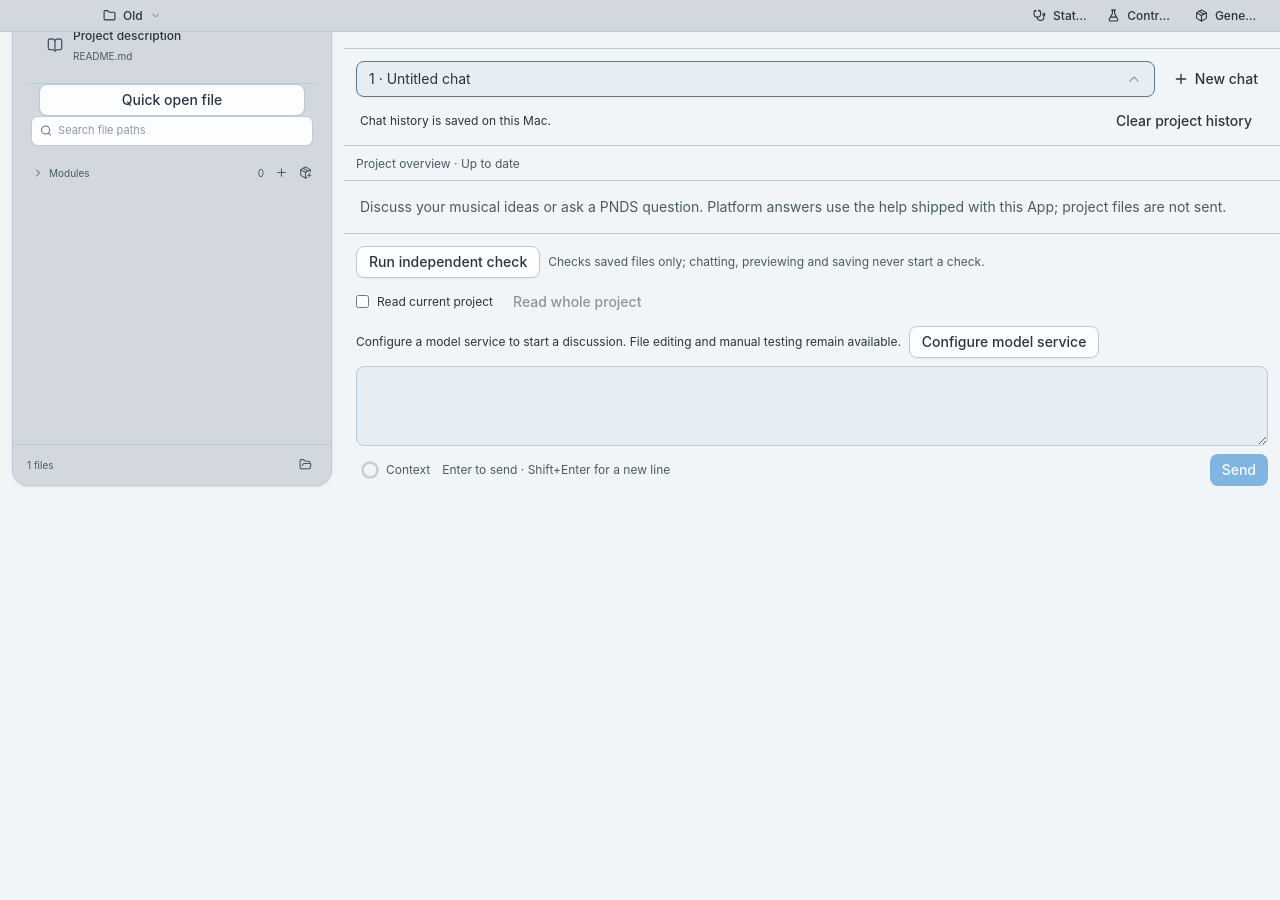
Test: reports creation failure before stopping the live project and keeps the form available for retry
Click the button with aria-label "Project actions": [132, 16] box [96,4,168,28]
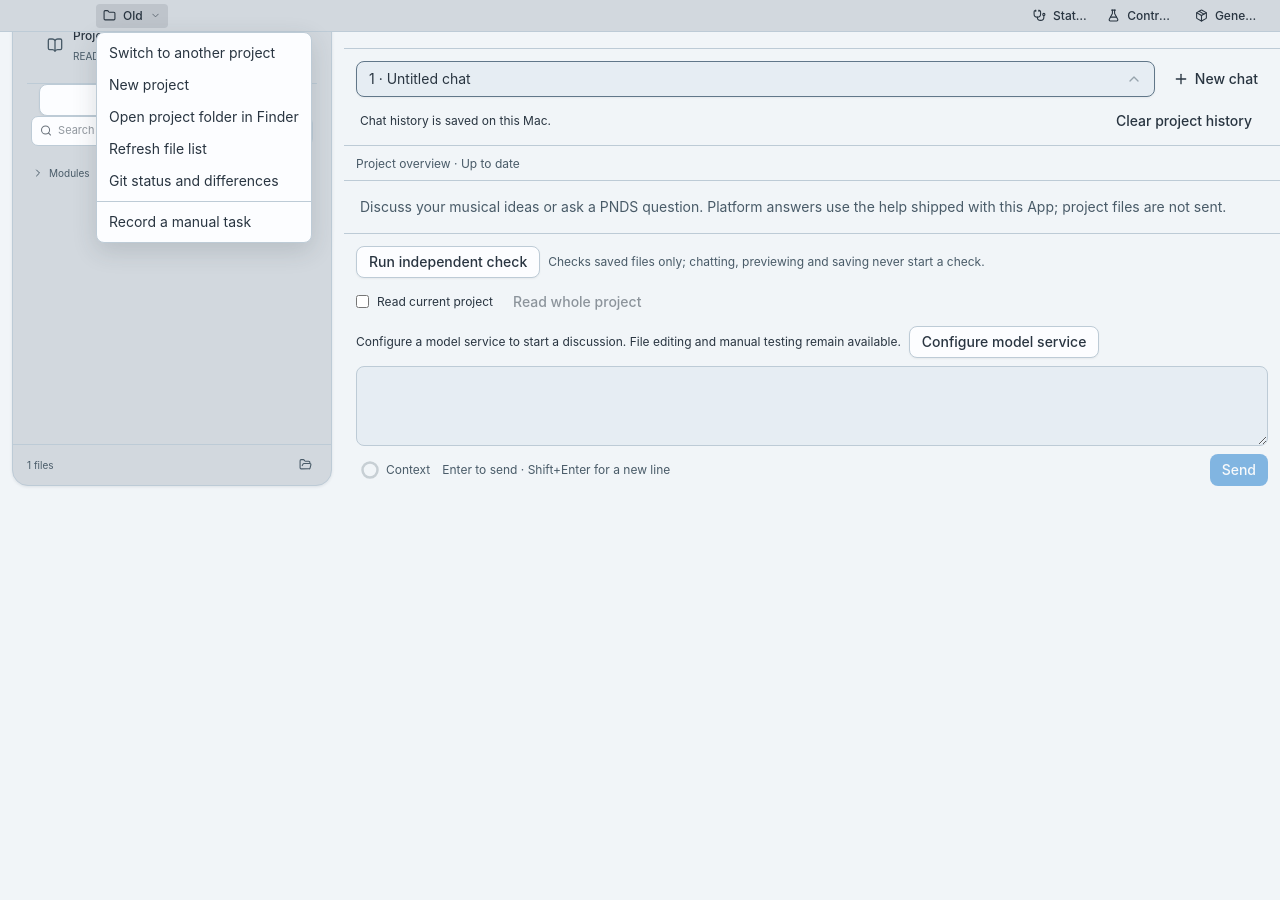
Click the menu item "Switch to another project": [192, 52] box [109,44,275,61]
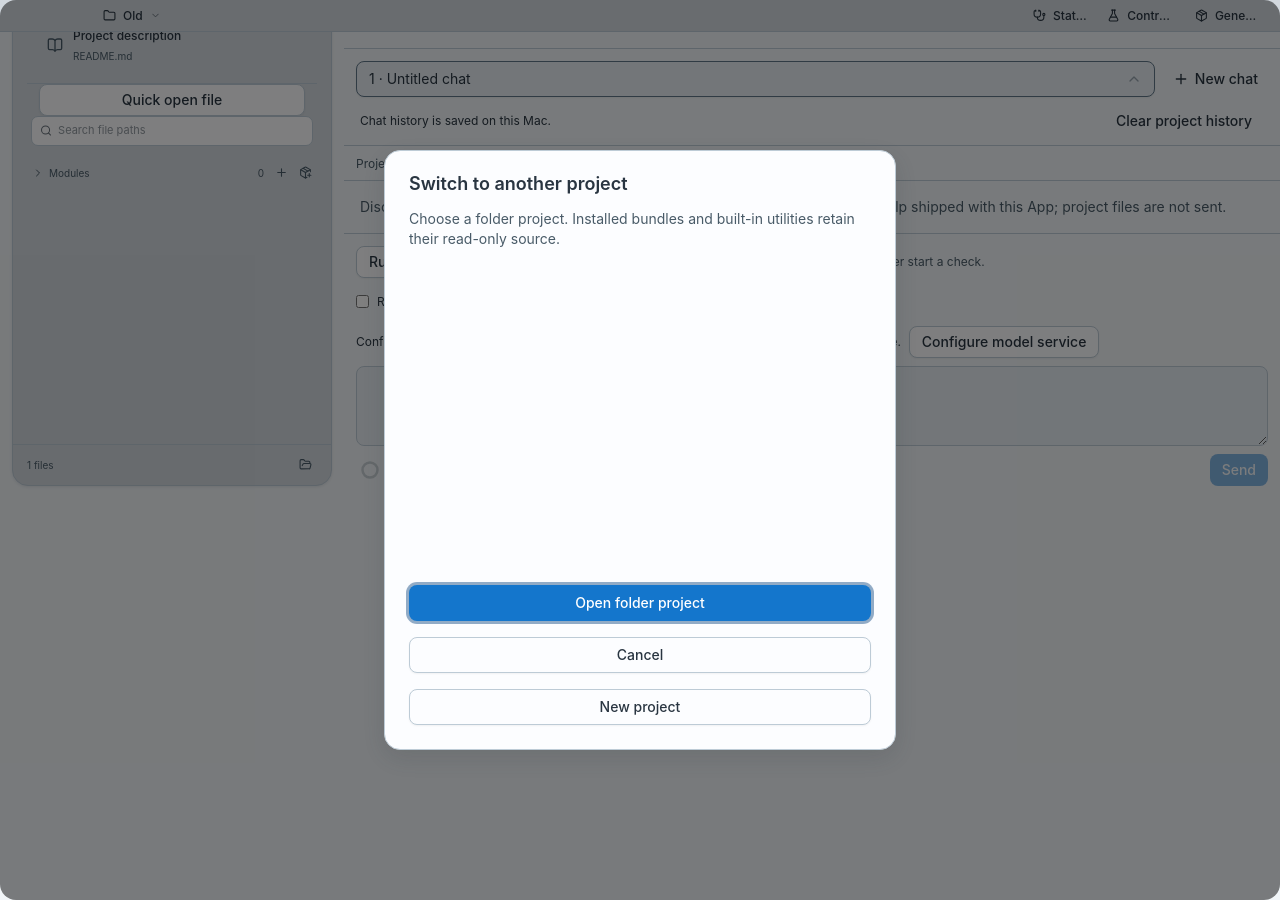
Click the button "New project": [640, 707] box [409,689,871,725]
(page scrolled)
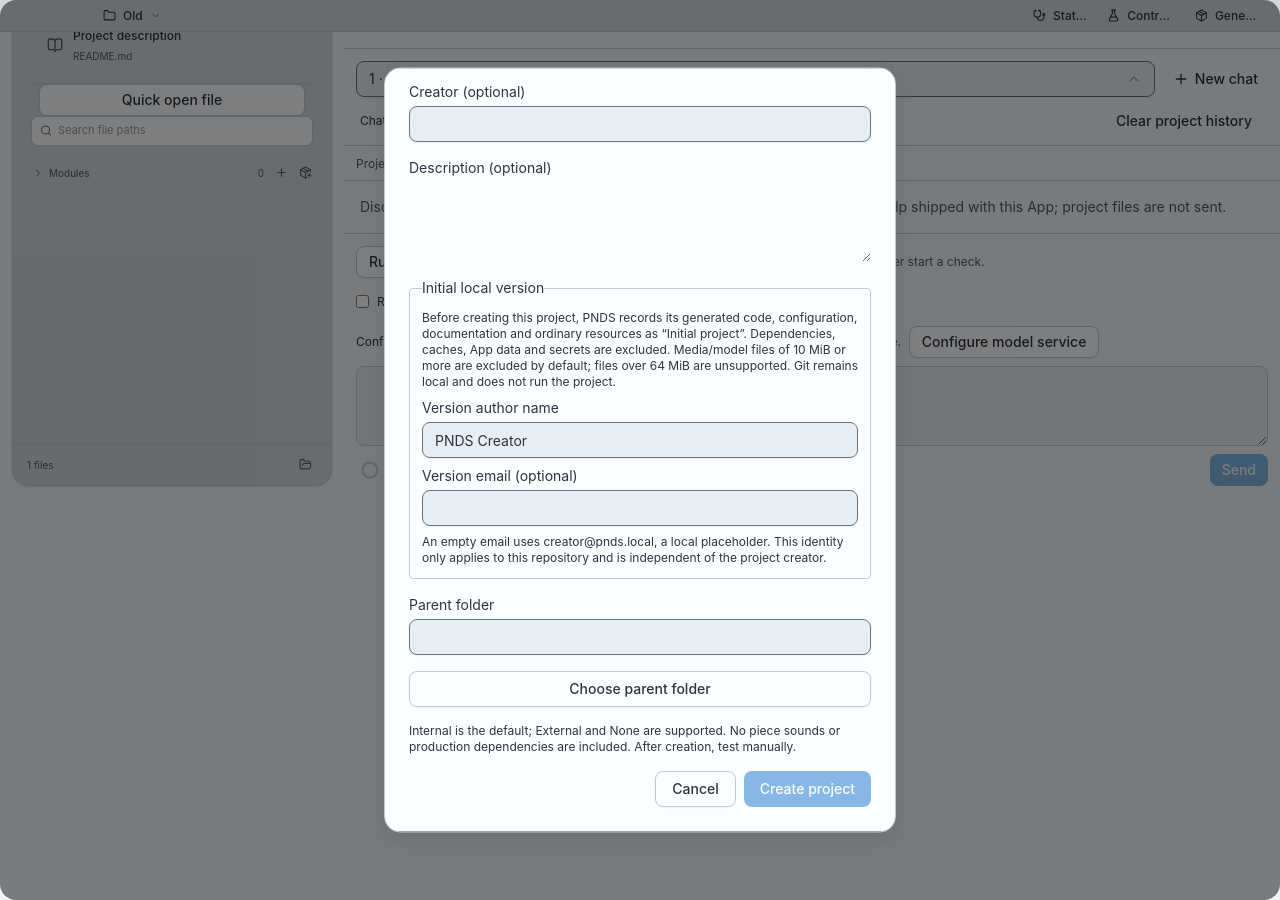
Click the button "Choose parent folder": [640, 690] box [409,672,871,708]
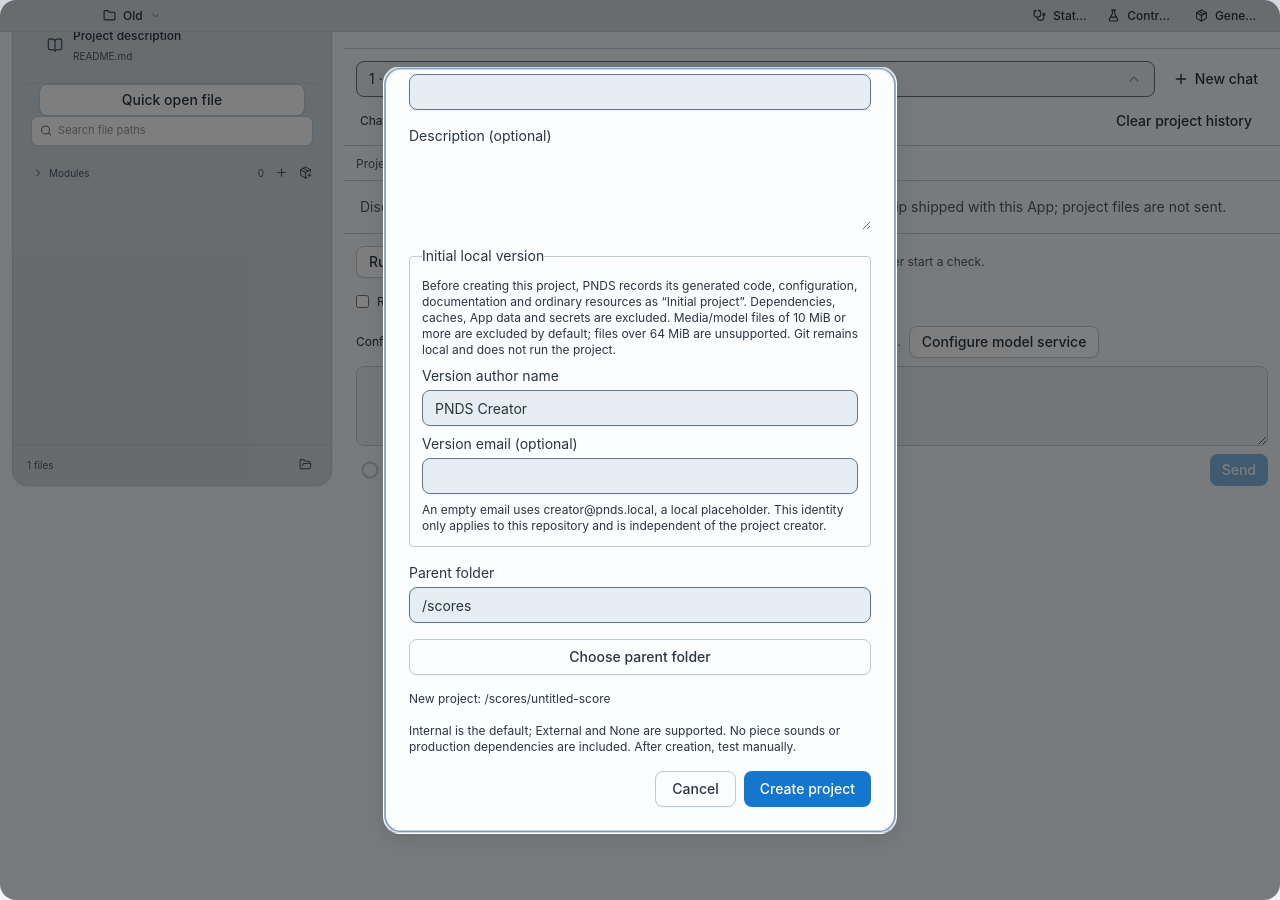
Check: the field showing "/scores" is shown, box [409,588,871,624]
Click the button "Create project": [807, 790] box [744,772,871,808]
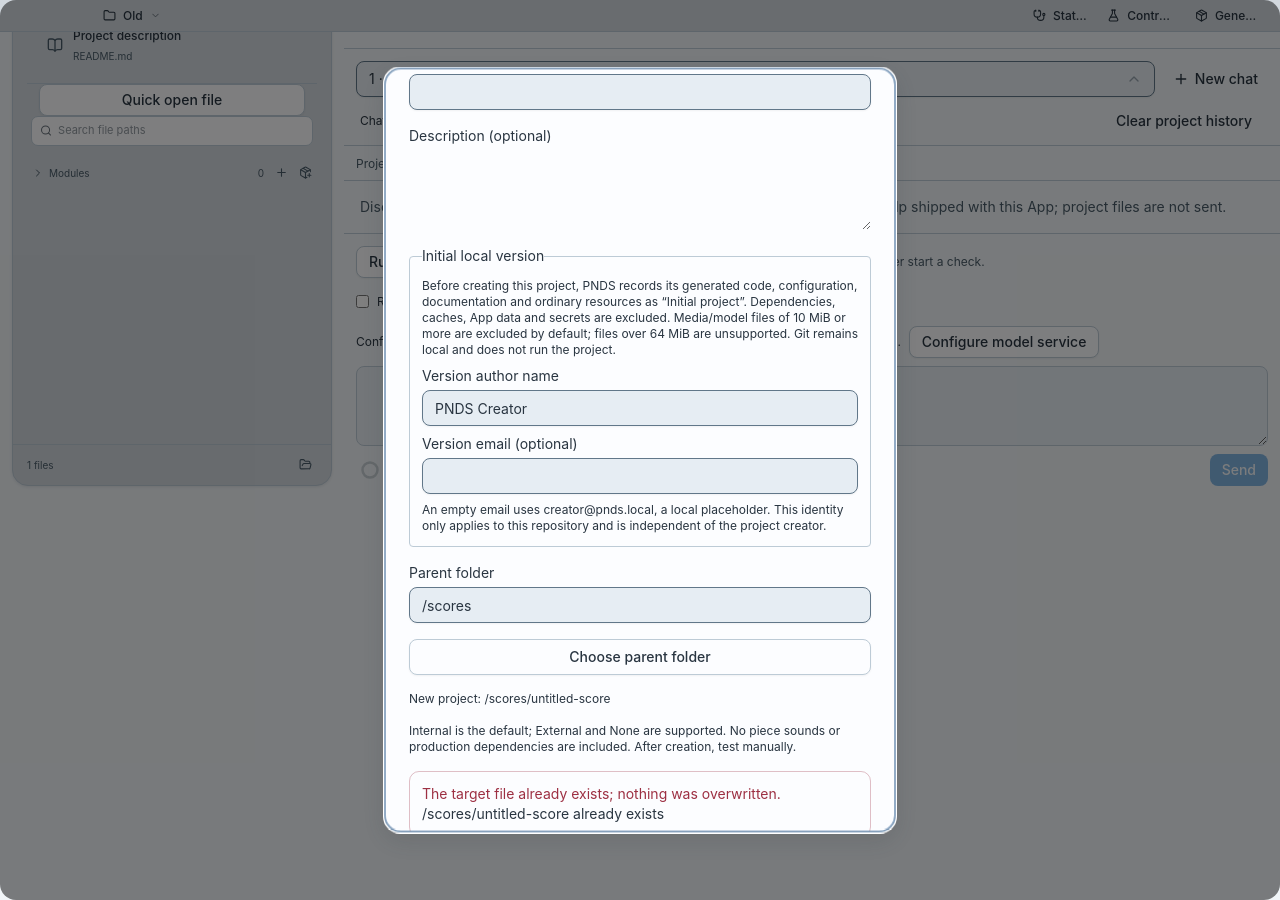
Check: the text "/scores/untitled-score already exists" is shown, box [422,806,664,822]
